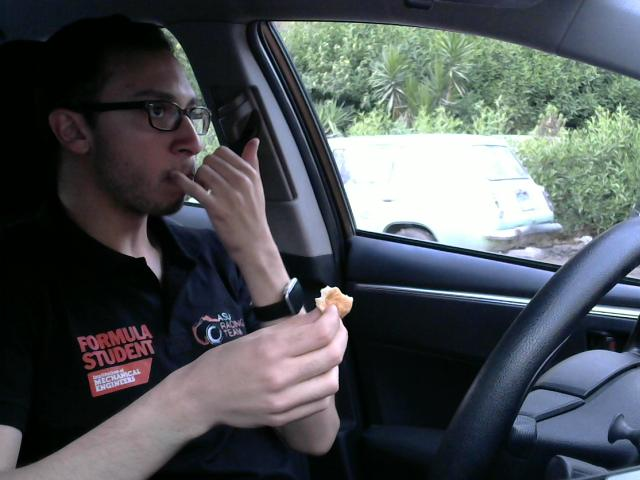Eating: (312, 275, 354, 324)
